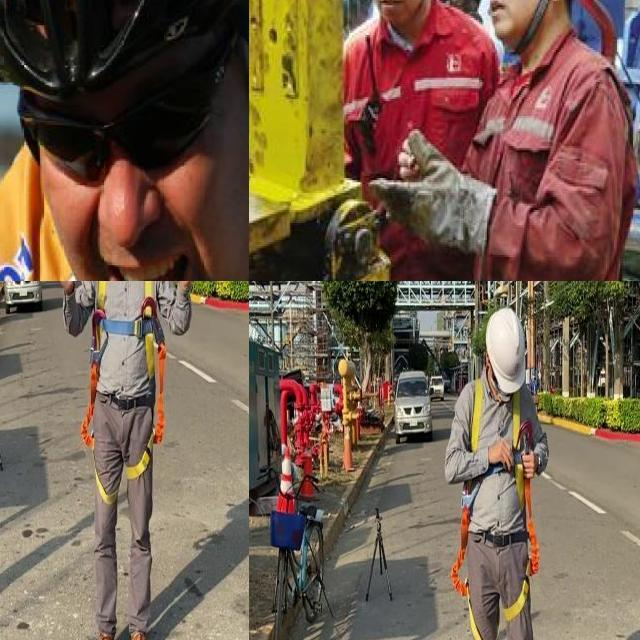Harness: (81, 281, 167, 480), (503, 391, 540, 622), (451, 479, 484, 640), (115, 392, 155, 410)
face_nomask: (32, 105, 221, 281), (478, 0, 536, 30), (361, 0, 416, 15)
glasses: (24, 66, 240, 194)
hand_glove: (369, 127, 497, 261)
person: (440, 0, 640, 281), (331, 0, 505, 281)
